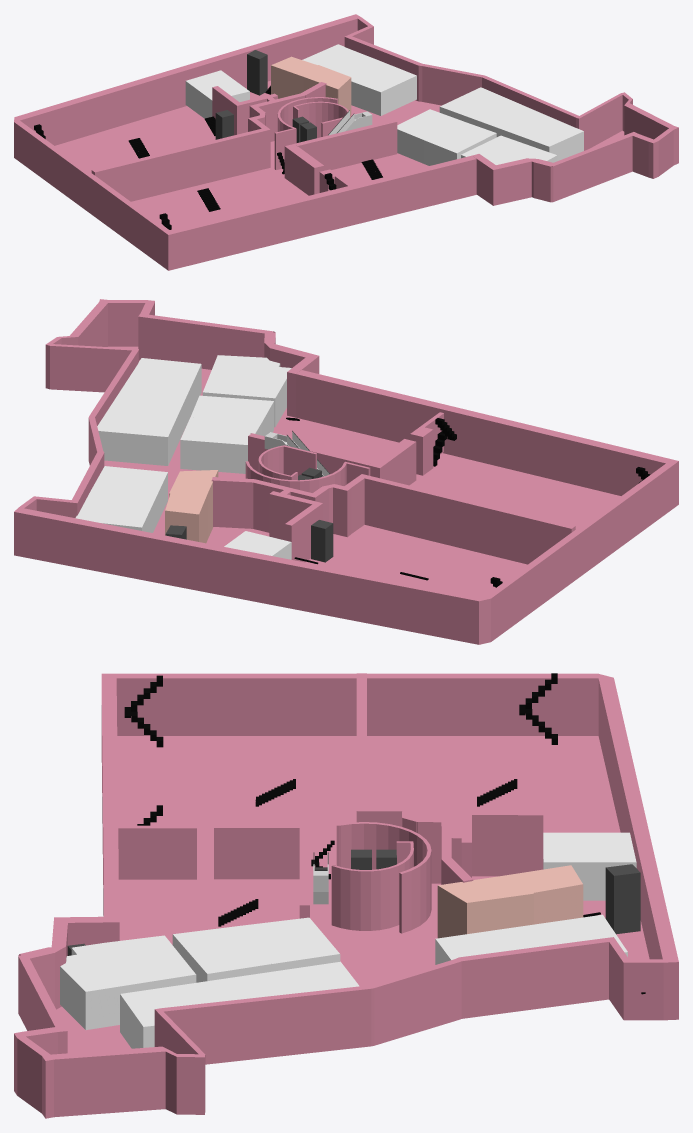
3 views of the same model, one above another, from view 1: azimuth 30°, elevation 25°; view 2: azimuth 150°, elevation 25°; view 3: azimuth 270°, elevation 25° (orthographic). The views are drawn at different scales.
Visible parts, largest first — view 1: object, 会議室92A, 会議室92C, 会議室92B, 会議室92E, 会議室92F, マイクロ資料庫, 会議室92D, 女子トイレ_9_2_1, 男子トイレ_9_2_1, エレベーター_9_2_4, エスカレーター_9_2 (+2 smaller); view 2: object, 会議室92B, 会議室92A, 会議室92F, 会議室92D, 会議室92C, 会議室92E, 女子トイレ_9_2_1, 男子トイレ_9_2_1, マイクロ資料庫, エレベーター_9_2_1, エスカレーター_9_2 (+1 smaller); view 3: object, 会議室92D, 男子トイレ_9_2_1, 会議室92A, マイクロ資料庫, 会議室92E, 会議室92C, 会議室92F, 会議室92B, 女子トイレ_9_2_1, エレベーター_9_2_4, 階段_9_2_8 (+3 smaller).
Boxes of the visible parts, x1=… form: object: x1=14, y1=14, x2=678, y2=270; 会議室92A: x1=302, y1=44, x2=416, y2=115; 会議室92C: x1=494, y1=110, x2=583, y2=160; 会議室92B: x1=439, y1=87, x2=533, y2=131; 会議室92E: x1=424, y1=121, x2=496, y2=165; 会議室92F: x1=397, y1=109, x2=463, y2=163; マイクロ資料庫: x1=185, y1=70, x2=249, y2=118; 会議室92D: x1=461, y1=135, x2=557, y2=164; 女子トイレ_9_2_1: x1=271, y1=56, x2=318, y2=98; 男子トイレ_9_2_1: x1=298, y1=65, x2=351, y2=116; エレベーター_9_2_4: x1=247, y1=50, x2=267, y2=95; エスカレーター_9_2: x1=328, y1=110, x2=372, y2=135; object: x1=14, y1=299, x2=678, y2=644; 会議室92B: x1=97, y1=393, x2=184, y2=465; 会議室92A: x1=75, y1=466, x2=167, y2=532; 会議室92F: x1=180, y1=417, x2=261, y2=473; 会議室92D: x1=202, y1=355, x2=291, y2=427; 会議室92C: x1=118, y1=358, x2=201, y2=428; 会議室92E: x1=191, y1=395, x2=273, y2=436; 女子トイレ_9_2_1: x1=165, y1=492, x2=207, y2=543; 男子トイレ_9_2_1: x1=169, y1=470, x2=218, y2=538; マイクロ資料庫: x1=224, y1=531, x2=291, y2=559; エレベーター_9_2_1: x1=311, y1=520, x2=333, y2=562; エスカレーター_9_2: x1=264, y1=430, x2=329, y2=476; object: x1=14, y1=673, x2=678, y2=1118; 会議室92D: x1=60, y1=935, x2=196, y2=1029; 男子トイレ_9_2_1: x1=437, y1=875, x2=533, y2=938; 会議室92A: x1=435, y1=914, x2=627, y2=964; マイクロ資料庫: x1=543, y1=832, x2=636, y2=900; 会議室92E: x1=172, y1=926, x2=271, y2=982; 会議室92C: x1=120, y1=978, x2=245, y2=1048; 会議室92F: x1=239, y1=917, x2=340, y2=971; 会議室92B: x1=230, y1=961, x2=359, y2=998; 女子トイレ_9_2_1: x1=507, y1=865, x2=583, y2=924; エレベーター_9_2_4: x1=605, y1=864, x2=640, y2=934; 階段_9_2_8: x1=124, y1=675, x2=163, y2=747.
Bounding box in the file's own units: 2.02 × 0.2254 × 1.46.
